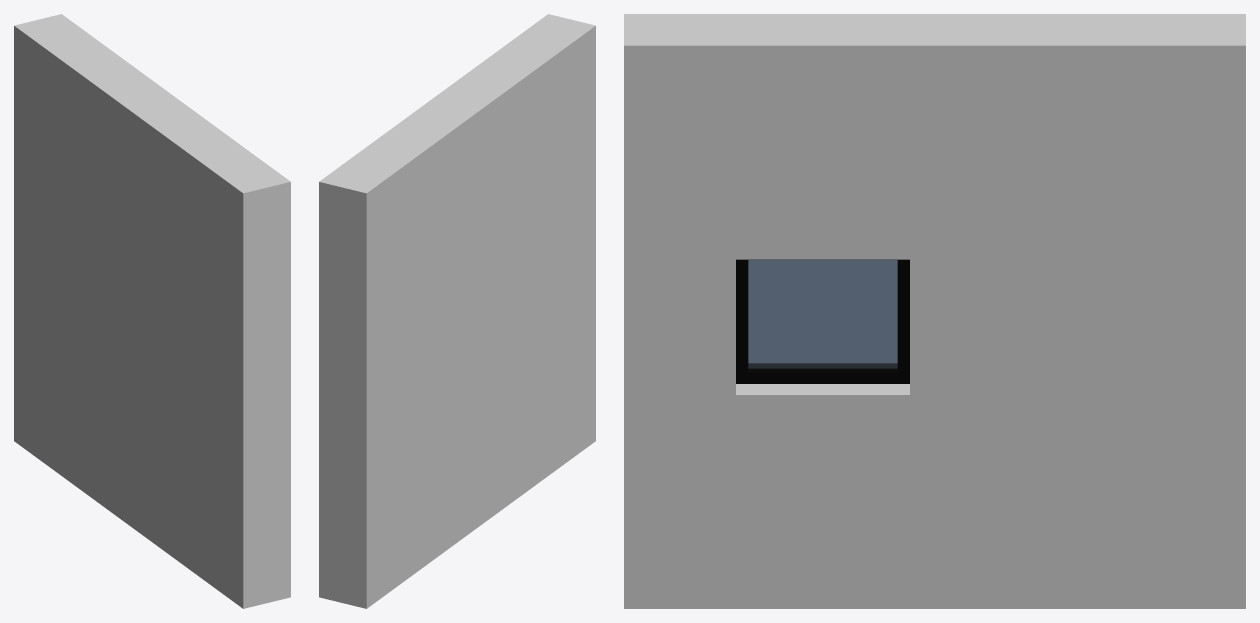
The model's file is house_wallwindow5high.glb.
3 renders of one model, left to right at view 1: azimuth 30°, elevation 25°; view 2: azimuth 150°, elevation 25°; view 3: azimuth 270°, elevation 25°, orthographic. The views are drawn at different scales.
Visible parts, largest first — view 1: WallWindow5High; view 2: WallWindow5High; view 3: WallWindow5High.
Boxes of the visible parts, x1,y1,x2,y2 form: WallWindow5High: (14,14,290,608); WallWindow5High: (319,14,595,608); WallWindow5High: (624,14,1245,608).
Bounding box in the file's own units: 30 × 250 × 250.
